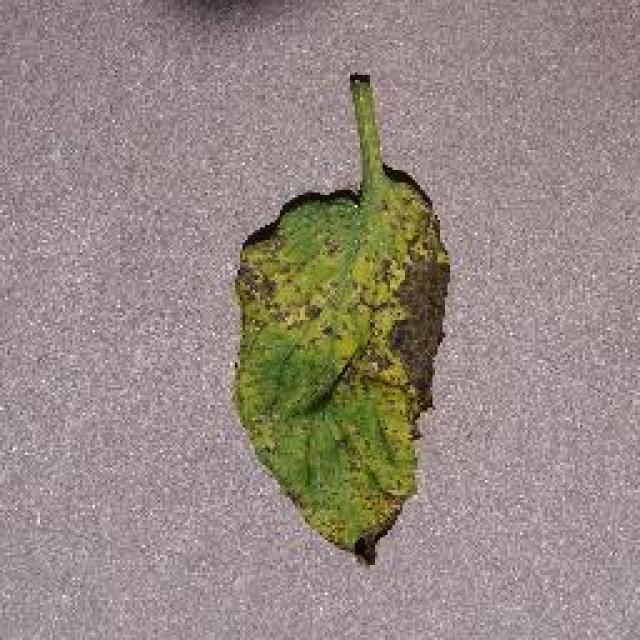Tomato___Septoria_leaf_spot: (235, 72, 448, 560)
